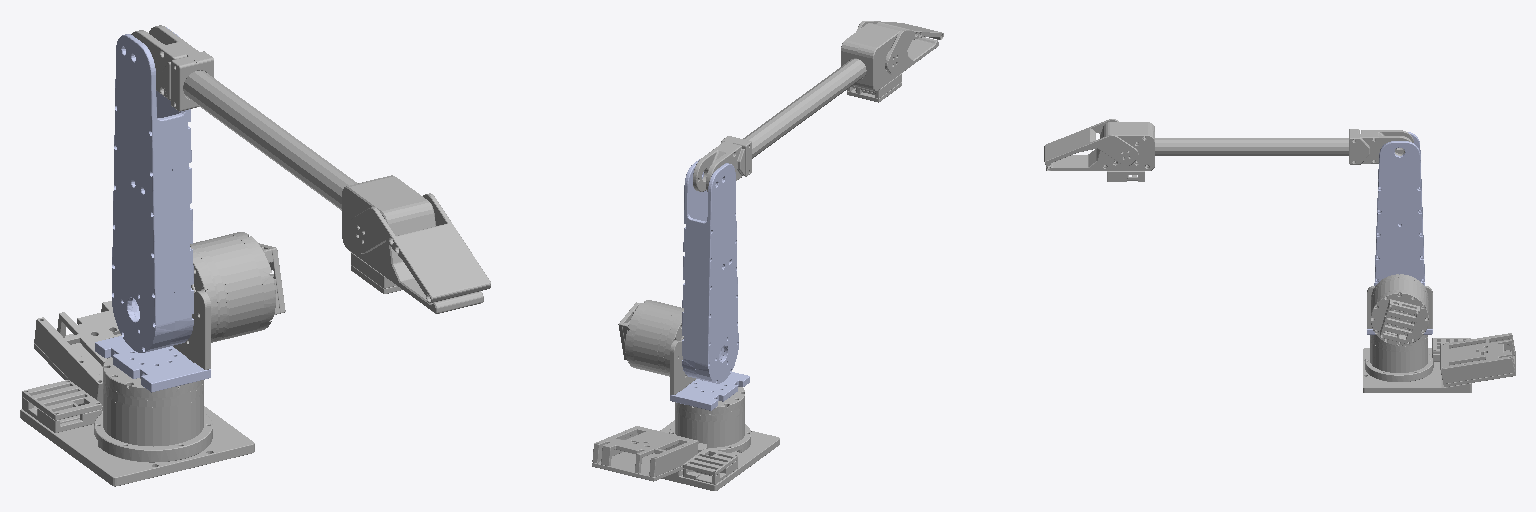
The robot description file, URDF, robot "Sample Arm 7":
<?xml version="1.0" encoding="utf-8"?>
<!-- This URDF was automatically created by SolidWorks to URDF Exporter! Originally created by [author] ([email redacted]) 
     Commit Version: 1.6.0-4-g7f85cfe  Build Version: 1.6.7995.38578
     For more information, please see http://wiki.ros.org/sw_urdf_exporter -->
<robot
  name="Sample Arm 7">
  <link
    name="base_link">
    <inertial>
      <origin
        xyz="0.00368134633125201 0.00383986483493379 0.0260332873989196"
        rpy="0 0 0" />
      <mass
        value="0.555746166352667" />
      <inertia
        ixx="0.000564569531443187"
        ixy="-2.1594155115282E-05"
        ixz="-1.97006796795357E-06"
        iyy="0.000443501475714245"
        iyz="-2.02970909322008E-05"
        izz="0.000973839619785963" />
    </inertial>
    <visual>
      <origin
        xyz="0 0 0"
        rpy="0 0 0" />
      <geometry>
        <mesh
          filename="package://Sample Arm 7/meshes/base_link.STL" />
      </geometry>
      <material
        name="">
        <color
          rgba="0.752941176470588 0.752941176470588 0.752941176470588 1" />
      </material>
    </visual>
    <collision>
      <origin
        xyz="0 0 0"
        rpy="0 0 0" />
      <geometry>
        <mesh
          filename="package://Sample Arm 7/meshes/base_link.STL" />
      </geometry>
    </collision>
  </link>
  <link
    name="motor_bracket">
    <inertial>
      <origin
        xyz="-2.88836212974676E-17 0.0049442016257755 -0.000718517500351113"
        rpy="0 0 0" />
      <mass
        value="0.0361562335715199" />
      <inertia
        ixx="2.53367831062421E-05"
        ixy="-8.748397385993E-22"
        ixz="6.79410470129006E-12"
        iyy="3.34621730544853E-05"
        iyz="3.39270759533818E-23"
        izz="8.51428709634465E-06" />
    </inertial>
    <visual>
      <origin
        xyz="0 0 0"
        rpy="0 0 0" />
      <geometry>
        <mesh
          filename="package://Sample Arm 7/meshes/motor_bracket.STL" />
      </geometry>
      <material
        name="">
        <color
          rgba="0.792156862745098 0.819607843137255 0.933333333333333 1" />
      </material>
    </visual>
    <collision>
      <origin
        xyz="0 0 0"
        rpy="0 0 0" />
      <geometry>
        <mesh
          filename="package://Sample Arm 7/meshes/motor_bracket.STL" />
      </geometry>
    </collision>
  </link>
  <joint
    name="tail_shoulder_yaw_joint"
    type="revolute">
    <origin
      xyz="0 -0.0250000074045035 0.0704999736568643"
      rpy="1.5707963267949 0 0" />
    <parent
      link="base_link" />
    <child
      link="motor_bracket" />
    <axis
      xyz="0 1 0" />
    <limit
      lower="-3.1416"
      upper="3.1416"
      effort="0"
      velocity="0" />
  </joint>
  <link
    name="link_1_1">
    <inertial>
      <origin
        xyz="0.0905473652790637 0.000711260512443836 0.0132318529133212"
        rpy="0 0 0" />
      <mass
        value="0.10522422497625" />
      <inertia
        ixx="4.9170948109236E-05"
        ixy="3.44838343166424E-07"
        ixz="-6.33912476285388E-06"
        iyy="0.000566745463767469"
        iyz="1.86818652106595E-09"
        izz="0.000611643830976391" />
    </inertial>
    <visual>
      <origin
        xyz="0 0 0"
        rpy="0 0 0" />
      <geometry>
        <mesh
          filename="package://Sample Arm 7/meshes/link_1_1.STL" />
      </geometry>
      <material
        name="">
        <color
          rgba="0.792156862745098 0.819607843137255 0.933333333333333 1" />
      </material>
    </visual>
    <collision>
      <origin
        xyz="0 0 0"
        rpy="0 0 0" />
      <geometry>
        <mesh
          filename="package://Sample Arm 7/meshes/link_1_1.STL" />
      </geometry>
    </collision>
  </link>
  <joint
    name="tail_shoulder_pitch_joint"
    type="revolute">
    <origin
      xyz="0 0.052 0"
      rpy="-1.5708 0 1.5708" />
    <parent
      link="motor_bracket" />
    <child
      link="link_1_1" />
    <axis
      xyz="0 0 -1" />
    <limit
      lower="-1.5708"
      upper="1.5708"
      effort="0"
      velocity="0" />
  </joint>
  <link
    name="link_2">
    <inertial>
      <origin
        xyz="-6.96295926472246E-09 -0.080424811499244 -5.62814089838616E-05"
        rpy="0 0 0" />
      <mass
        value="0.0763189346847985" />
      <inertia
        ixx="0.000193794609294917"
        ixy="-4.46258884884084E-12"
        ixz="1.575349661543E-11"
        iyy="1.19346850461047E-05"
        iyz="-3.84316854395656E-07"
        izz="0.000200914946760075" />
    </inertial>
    <visual>
      <origin
        xyz="0 0 0"
        rpy="0 0 0" />
      <geometry>
        <mesh
          filename="package://Sample Arm 7/meshes/link_2.STL" />
      </geometry>
      <material
        name="">
        <color
          rgba="0.752941176470588 0.752941176470588 0.752941176470588 1" />
      </material>
    </visual>
    <collision>
      <origin
        xyz="0 0 0"
        rpy="0 0 0" />
      <geometry>
        <mesh
          filename="package://Sample Arm 7/meshes/link_2.STL" />
      </geometry>
    </collision>
  </link>
  <joint
    name="elbow_joint"
    type="revolute">
    <origin
      xyz="0.22094 0.00071851 0"
      rpy="0 0 0" />
    <parent
      link="link_1_1" />
    <child
      link="link_2" />
    <axis
      xyz="0 0 1" />
    <limit
      lower="0"
      upper="1.5708"
      effort="0"
      velocity="0" />
  </joint>
  <link
    name="gripper">
    <inertial>
      <origin
        xyz="0.0573436204221779 -0.0395765636354563 -0.00060674366183752"
        rpy="0 0 0" />
      <mass
        value="0.203470349399239" />
      <inertia
        ixx="5.65426795005758E-05"
        ixy="-3.99750990342292E-05"
        ixz="1.78408717761704E-07"
        iyy="0.000230730550351754"
        iyz="-2.27266291884127E-07"
        izz="0.00026423414761495" />
    </inertial>
    <visual>
      <origin
        xyz="0 0 0"
        rpy="0 0 0" />
      <geometry>
        <mesh
          filename="package://Sample Arm 7/meshes/gripper.STL" />
      </geometry>
      <material
        name="">
        <color
          rgba="0.752941176470588 0.752941176470588 0.752941176470588 1" />
      </material>
    </visual>
    <collision>
      <origin
        xyz="0 0 0"
        rpy="0 0 0" />
      <geometry>
        <mesh
          filename="package://Sample Arm 7/meshes/gripper.STL" />
      </geometry>
    </collision>
  </link>
  <joint
    name="gripper_fixed_joint"
    type="fixed">
    <origin
      xyz="-0.0444441987014288 -0.336718519125746 0"
      rpy="3.14159265358979 0 -1.57079632679503" />
    <parent
      link="link_2" />
    <child
      link="gripper" />
    <axis
      xyz="0 0 0" />
  </joint>
  <link
    name="link_1_2">
    <inertial>
      <origin
        xyz="-0.0314199921617841 -0.00071837333398065 0.00385190919585071"
        rpy="0 0 0" />
      <mass
        value="0.0948432334787272" />
      <inertia
        ixx="4.75228867726751E-05"
        ixy="9.01698567690483E-10"
        ixz="-9.0340126283445E-06"
        iyy="0.000462256039513398"
        iyz="1.93962855038886E-11"
        izz="0.000505534714703268" />
    </inertial>
    <visual>
      <origin
        xyz="0 0 0"
        rpy="0 0 0" />
      <geometry>
        <mesh
          filename="package://Sample Arm 7/meshes/link_1_2.STL" />
      </geometry>
      <material
        name="">
        <color
          rgba="0.792156862745098 0.819607843137255 0.933333333333333 1" />
      </material>
    </visual>
    <collision>
      <origin
        xyz="0 0 0"
        rpy="0 0 0" />
      <geometry>
        <mesh
          filename="package://Sample Arm 7/meshes/link_1_2.STL" />
      </geometry>
    </collision>
  </link>
  <joint
    name="link_1_2"
    type="fixed">
    <origin
      xyz="0.131599993038923 0 -0.00899999748365095"
      rpy="-3.14159265358979 0 0" />
    <parent
      link="link_1_1" />
    <child
      link="link_1_2" />
    <axis
      xyz="0 0 0" />
  </joint>
  <link
    name="motor_2">
    <inertial>
      <origin
        xyz="0.000415160647521215 -0.00599711221017367 0.000853420896040624"
        rpy="0 0 0" />
      <mass
        value="0.293750772256237" />
      <inertia
        ixx="0.000131437212880793"
        ixy="-1.45875965303565E-07"
        ixz="-5.95974642870492E-06"
        iyy="0.000249003244796522"
        iyz="8.86875080429919E-08"
        izz="0.000138018696135985" />
    </inertial>
    <visual>
      <origin
        xyz="0 0 0"
        rpy="0 0 0" />
      <geometry>
        <mesh
          filename="package://Sample Arm 7/meshes/motor_2.STL" />
      </geometry>
      <material
        name="">
        <color
          rgba="0.752941176470588 0.752941176470588 0.752941176470588 1" />
      </material>
    </visual>
    <collision>
      <origin
        xyz="0 0 0"
        rpy="0 0 0" />
      <geometry>
        <mesh
          filename="package://Sample Arm 7/meshes/motor_2.STL" />
      </geometry>
    </collision>
  </link>
  <joint
    name="motor_2"
    type="fixed">
    <origin
      xyz="0.0642499999999967 0.0520000037921046 0"
      rpy="-3.14159265358978 1.04719755119654 1.57079632679491" />
    <parent
      link="motor_bracket" />
    <child
      link="motor_2" />
    <axis
      xyz="0 0 0" />
  </joint>
  <link
    name="motor_3">
    <inertial>
      <origin
        xyz="0.0010594901135863 -0.005997111629483 -0.000262627762671955"
        rpy="0 0 0" />
      <mass
        value="0.293750772256237" />
      <inertia
        ixx="0.000131437217831497"
        ixy="-1.45906394621066E-07"
        ixz="-5.95975140378827E-06"
        iyy="0.000249003244796523"
        iyz="8.86902171652028E-08"
        izz="0.000138018691185278" />
    </inertial>
    <visual>
      <origin
        xyz="0 0 0"
        rpy="0 0 0" />
      <geometry>
        <mesh
          filename="package://Sample Arm 7/meshes/motor_3.STL" />
      </geometry>
      <material
        name="">
        <color
          rgba="0.752941176470588 0.752941176470588 0.752941176470588 1" />
      </material>
    </visual>
    <collision>
      <origin
        xyz="0 0 0"
        rpy="0 0 0" />
      <geometry>
        <mesh
          filename="package://Sample Arm 7/meshes/motor_3.STL" />
      </geometry>
    </collision>
  </link>
  <joint
    name="motor_3"
    type="fixed">
    <origin
      xyz="-0.0642499999999978 0.0520000040598411 0"
      rpy="3.14159265358978 1.04719755119673 -1.5707963267949" />
    <parent
      link="motor_bracket" />
    <child
      link="motor_3" />
    <axis
      xyz="0 0 0" />
  </joint>
</robot>

--- Render facts (derived) ---
Views: 3 orthographic renders of the robot side by side, from view 1: azimuth 30°, elevation 25°; view 2: azimuth 150°, elevation 25°; view 3: azimuth 270°, elevation 25°.
Robot: Sample Arm 7 — 8 links, 7 joints (3 revolute, 4 fixed); root link base_link; default pose: every joint at zero.
Links seen in each view (by area): view 1: base_link, link_1_1, gripper, link_2, motor_2, link_1_2, motor_bracket; view 2: base_link, link_1_1, gripper, link_2, motor_2, link_1_2, motor_bracket; view 3: base_link, link_1_2, gripper, link_2, motor_2.
Boxes of the visible links, x1=… form: base_link: x1=20, y1=301, x2=254, y2=486; link_1_1: x1=112, y1=34, x2=174, y2=352; gripper: x1=342, y1=175, x2=490, y2=313; link_2: x1=131, y1=25, x2=357, y2=210; motor_2: x1=173, y1=232, x2=285, y2=369; link_1_2: x1=135, y1=27, x2=193, y2=347; motor_bracket: x1=95, y1=336, x2=210, y2=392; base_link: x1=592, y1=387, x2=779, y2=490; link_1_1: x1=695, y1=163, x2=738, y2=383; gripper: x1=841, y1=21, x2=943, y2=102; link_2: x1=693, y1=59, x2=866, y2=191; motor_2: x1=618, y1=300, x2=695, y2=394; link_1_2: x1=682, y1=159, x2=722, y2=379; motor_bracket: x1=670, y1=372, x2=749, y2=410; base_link: x1=1363, y1=333, x2=1515, y2=392; link_1_2: x1=1375, y1=141, x2=1424, y2=285; gripper: x1=1044, y1=119, x2=1154, y2=181; link_2: x1=1155, y1=129, x2=1413, y2=164; motor_2: x1=1367, y1=274, x2=1432, y2=345.
Bounding box of the posed robot: 0.1705 × 0.6472 × 0.3735 m (x, y, z).
7 mesh visuals loaded from 8 distinct referenced files (7 binary STL); not drawn: 1 (reference not matched to a file when rendering).